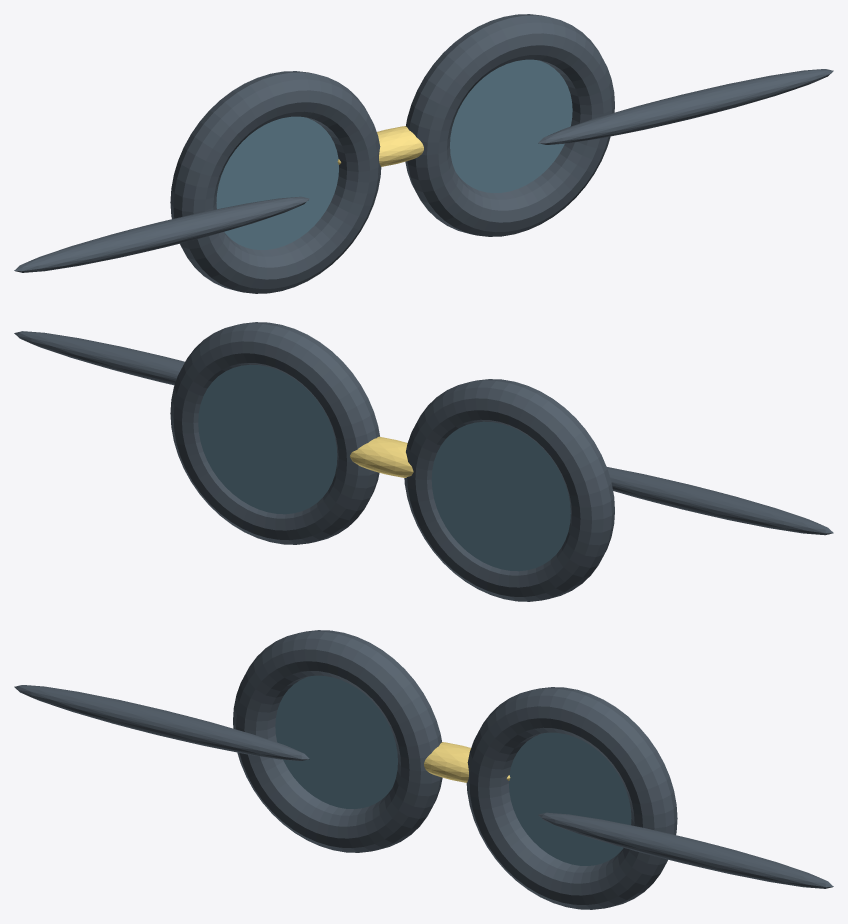
Rendered from retro_shades.glb.
3 renders of one model, top to bottom at view 1: azimuth 30°, elevation 25°; view 2: azimuth 150°, elevation 25°; view 3: azimuth 330°, elevation 25°, orthographic.
Parts seen in each view (by area): view 1: retro_shades_0, retro_shades_1, retro_shades_3, retro_shades_2, retro_shades_6, retro_shades_5, retro_shades_4; view 2: retro_shades_0, retro_shades_1, retro_shades_3, retro_shades_2, retro_shades_5, retro_shades_6, retro_shades_4; view 3: retro_shades_1, retro_shades_0, retro_shades_2, retro_shades_3, retro_shades_5, retro_shades_6, retro_shades_4.
Boxes of the visible parts, bbox=[...] form: retro_shades_0: bbox=[170, 71, 381, 293]; retro_shades_1: bbox=[405, 14, 614, 236]; retro_shades_3: bbox=[450, 59, 572, 193]; retro_shades_2: bbox=[216, 116, 338, 249]; retro_shades_6: bbox=[538, 69, 833, 144]; retro_shades_5: bbox=[14, 196, 309, 272]; retro_shades_4: bbox=[337, 126, 423, 166]; retro_shades_0: bbox=[404, 379, 614, 601]; retro_shades_1: bbox=[170, 322, 379, 544]; retro_shades_3: bbox=[198, 364, 337, 514]; retro_shades_2: bbox=[431, 421, 570, 571]; retro_shades_5: bbox=[607, 467, 833, 535]; retro_shades_6: bbox=[14, 331, 184, 385]; retro_shades_4: bbox=[350, 436, 413, 477]; retro_shades_1: bbox=[466, 687, 677, 909]; retro_shades_0: bbox=[233, 630, 442, 852]; retro_shades_2: bbox=[275, 675, 397, 809]; retro_shades_3: bbox=[509, 732, 631, 865]; retro_shades_5: bbox=[14, 685, 309, 760]; retro_shades_6: bbox=[538, 812, 833, 888]; retro_shades_4: bbox=[424, 742, 510, 782].
Bounding box in the file's own units: 1.44 × 0.36 × 0.16.
